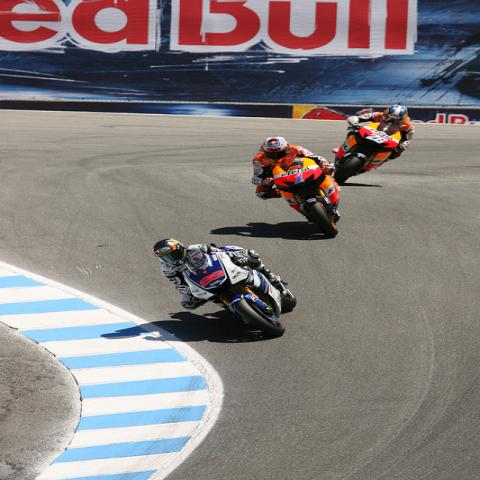motorcycle: (184, 252, 286, 336), (272, 156, 344, 237), (329, 121, 404, 187)
